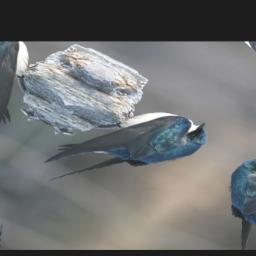Swallow: (30, 84, 219, 219)
